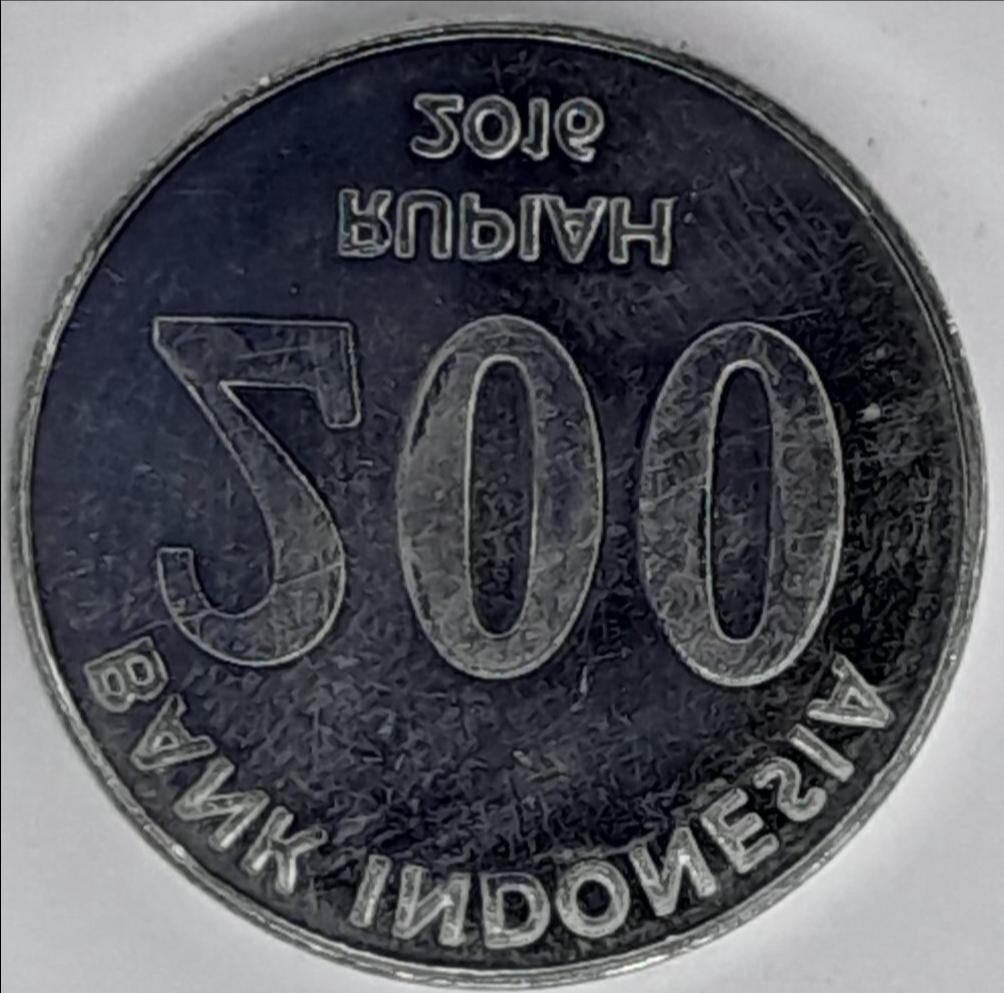coin_200_e2016: (0, 17, 1004, 993)
